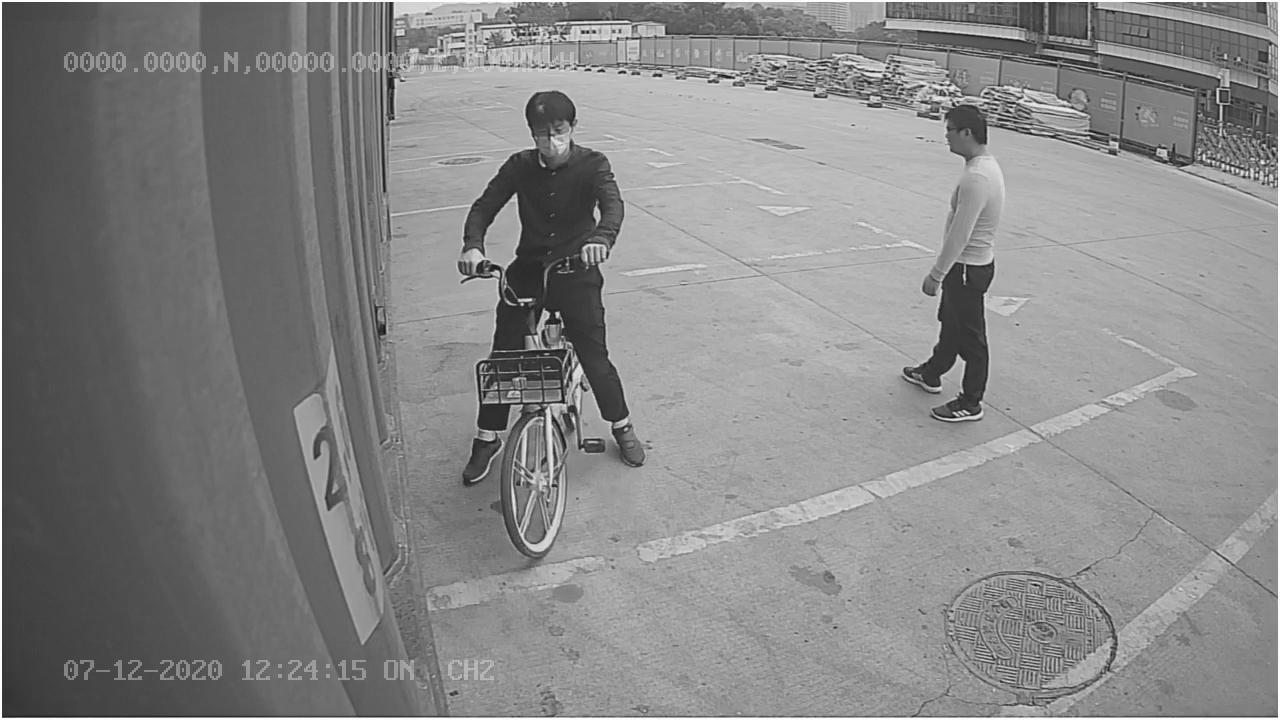person: (894, 102, 1009, 426)
